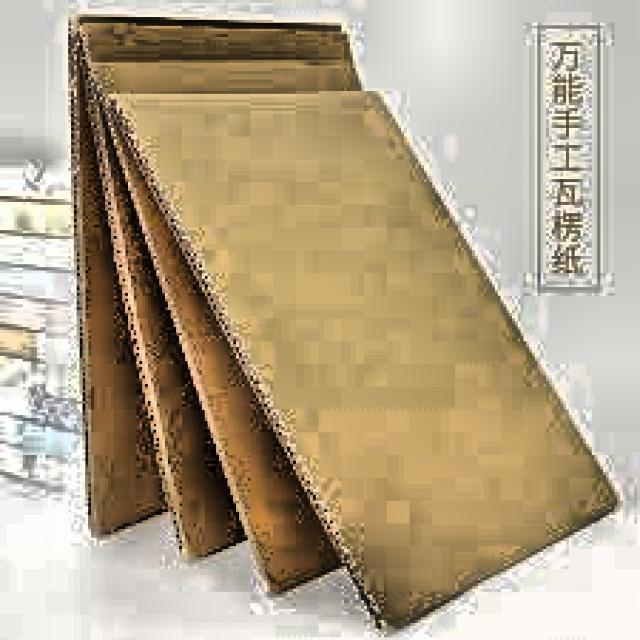cardboard: (65, 11, 618, 632)
